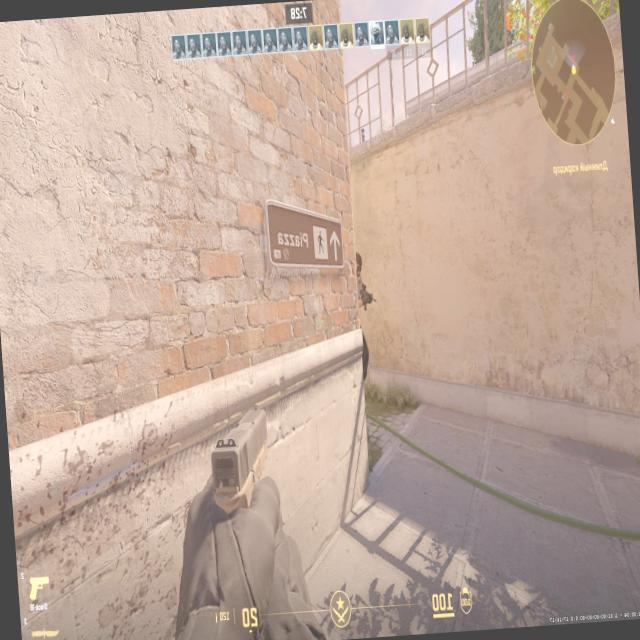T: (348, 252, 374, 382)
T_heat: (354, 255, 361, 276)
